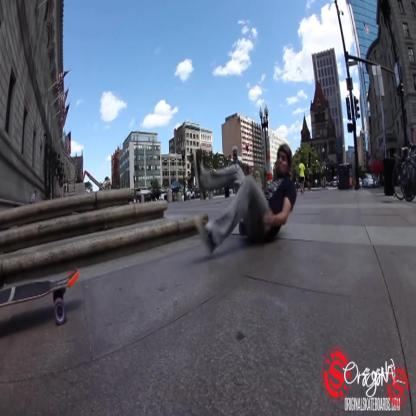Fall_Down: (194, 144, 298, 256)
